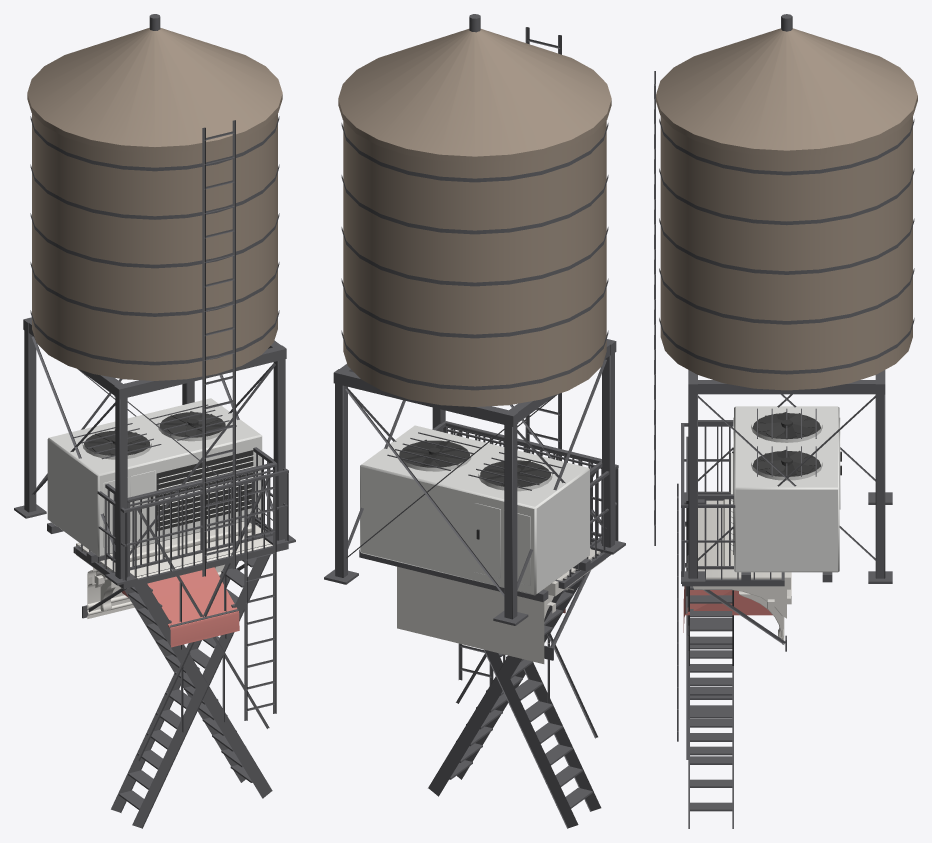
Rendered from facade_kit.glb.
3 renders of one model, left to right at view 1: azimuth 30°, elevation 25°; view 2: azimuth 150°, elevation 25°; view 3: azimuth 270°, elevation 25°, orthographic. The views are drawn at different scales.
Parts seen in each view (by area): view 1: kit_water_tank, kit_hvac, kit_fe_stair_l, kit_balcony, kit_fe_stair_r, kit_awning, kit_fe_bottom, kit_cornice_bracket, kit_cornice_classic; view 2: kit_water_tank, kit_hvac, kit_fe_stair_l, kit_cornice_classic, kit_cornice_bracket, kit_fe_stair_r, kit_balcony; view 3: kit_water_tank, kit_hvac, kit_fe_stair_l, kit_balcony, kit_fe_stair_r, kit_awning, kit_cornice_bracket, kit_fe_bottom.
Part boxes in pixels (bbox=[...]): kit_water_tank: bbox=[14, 14, 295, 585]; kit_hvac: bbox=[47, 398, 262, 563]; kit_fe_stair_l: bbox=[73, 452, 288, 828]; kit_balcony: bbox=[76, 447, 277, 588]; kit_fe_stair_r: bbox=[124, 509, 272, 798]; kit_awning: bbox=[122, 567, 239, 647]; kit_fe_bottom: bbox=[244, 476, 276, 720]; kit_cornice_bracket: bbox=[87, 521, 251, 618]; kit_cornice_classic: bbox=[87, 554, 224, 611]; kit_water_tank: bbox=[324, 14, 625, 625]; kit_hvac: bbox=[359, 425, 590, 601]; kit_fe_stair_l: bbox=[432, 427, 618, 828]; kit_cornice_classic: bbox=[397, 567, 567, 656]; kit_cornice_bracket: bbox=[397, 566, 573, 663]; kit_fe_stair_r: bbox=[428, 472, 595, 796]; kit_balcony: bbox=[432, 421, 605, 618]; kit_water_tank: bbox=[654, 14, 917, 583]; kit_hvac: bbox=[730, 406, 841, 582]; kit_fe_stair_l: bbox=[681, 423, 786, 755]; kit_balcony: bbox=[687, 420, 790, 618]; kit_fe_stair_r: bbox=[686, 436, 733, 828]; kit_awning: bbox=[683, 586, 772, 632]; kit_cornice_bracket: bbox=[723, 499, 784, 644]; kit_fe_bottom: bbox=[677, 483, 678, 741].
Bounding box in the file's own units: 3.22 × 10.61 × 3.24.
